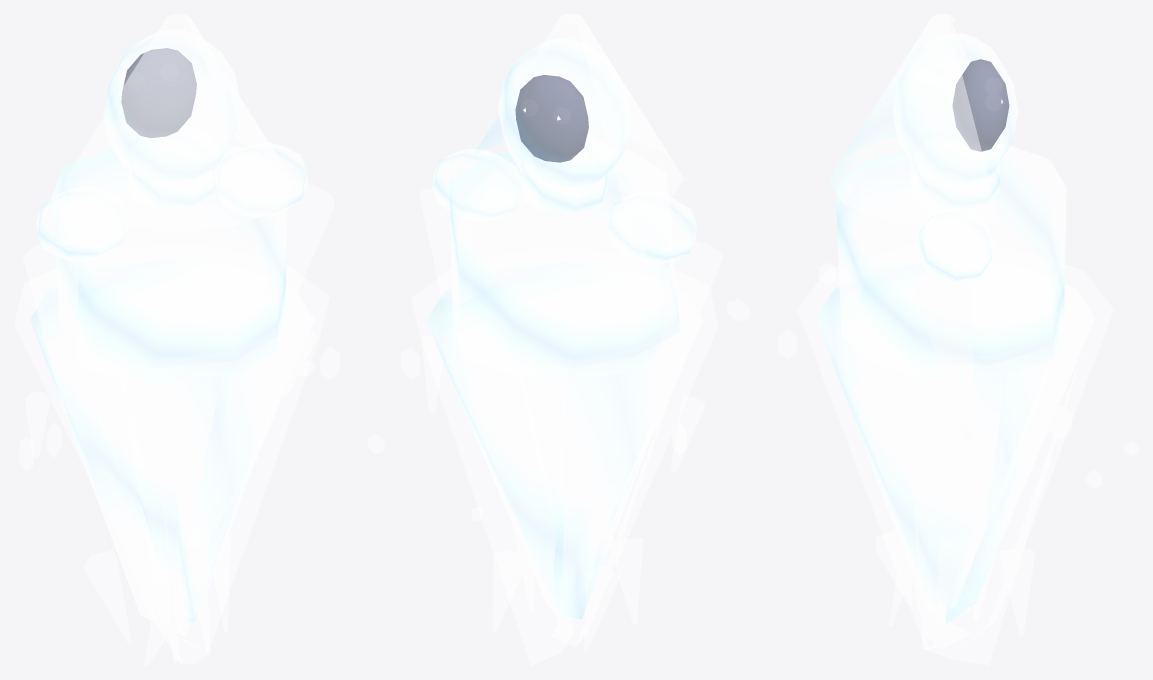
File: ghost.glb
3 renders of one model, left to right at view 1: azimuth 30°, elevation 25°; view 2: azimuth 150°, elevation 25°; view 3: azimuth 270°, elevation 25°, orthographic. The views are drawn at different scales.
Parts seen in each view (by area): view 1: Ghost; view 2: Ghost; view 3: Ghost.
Boxes of the visible parts, left/top/right/bottom form: Ghost: left=14, top=14, right=339, bottom=665; Ghost: left=368, top=14, right=749, bottom=665; Ghost: left=778, top=14, right=1138, bottom=665.
Bounding box in the file's own units: 0.5163 × 1 × 0.5118.
